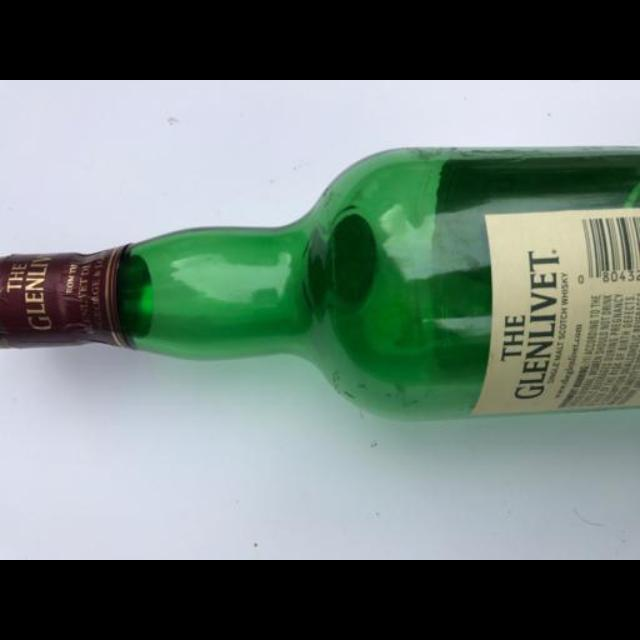garrafa de vidro: (0, 146, 640, 420)
